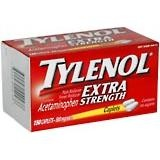grozi_72: (0, 27, 160, 132)
